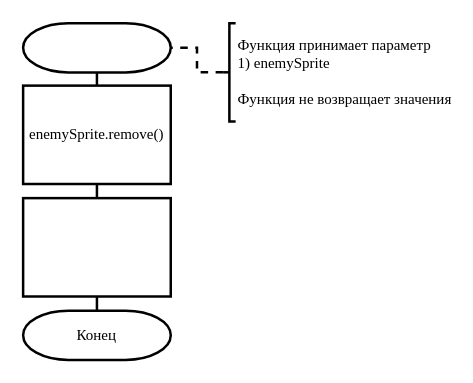
This 473x383 diagram has some shape labels left out. Each missing label, with the centre of its shape:
"GameState ::destroyEnemy(...)" goes at pixel 96 47.
"this .currentEnemyCount -= 1" goes at pixel 96 246.
